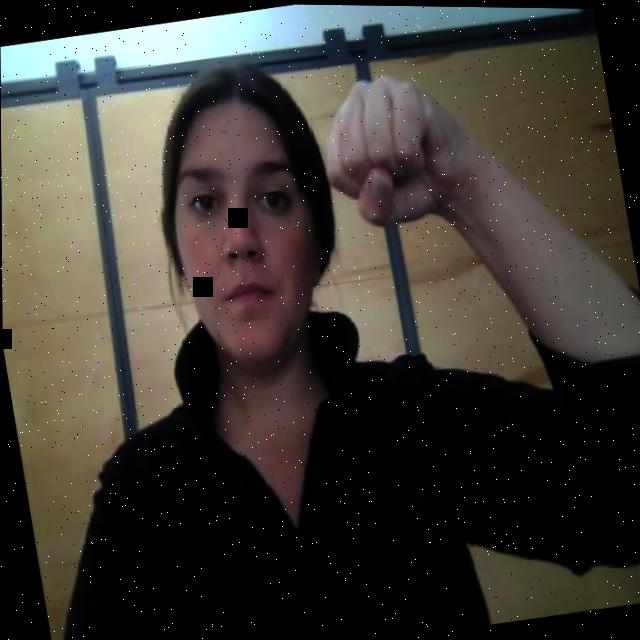Rock: (310, 54, 470, 246)
